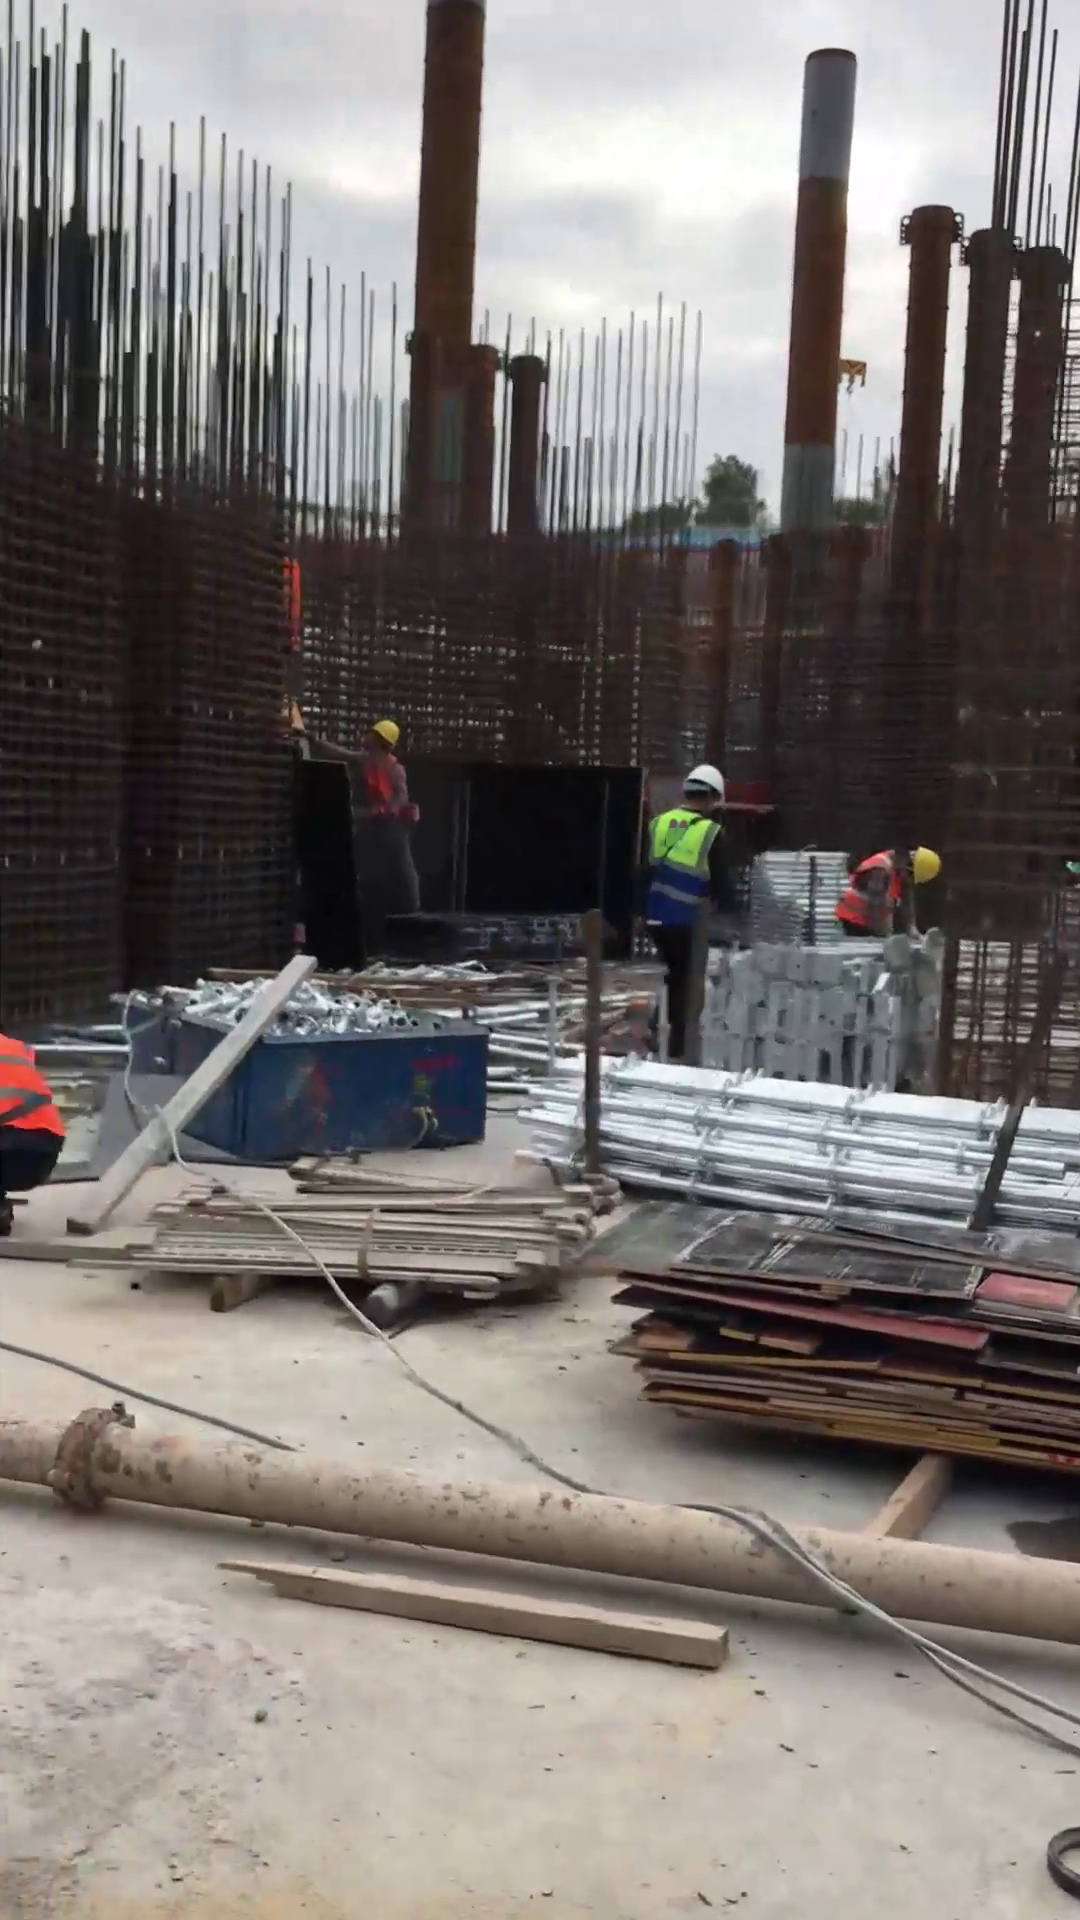board: (618, 1198, 1080, 1496)
helmet: (902, 842, 949, 900), (681, 758, 731, 810), (366, 715, 408, 745)
hopper: (133, 970, 497, 1172)
person: (623, 747, 765, 1077), (292, 703, 449, 932), (1, 1009, 79, 1260), (826, 832, 958, 958)
scaffold: (740, 831, 852, 958)
vest: (644, 798, 720, 944), (1, 1023, 71, 1151), (837, 844, 907, 940), (347, 745, 423, 832)
